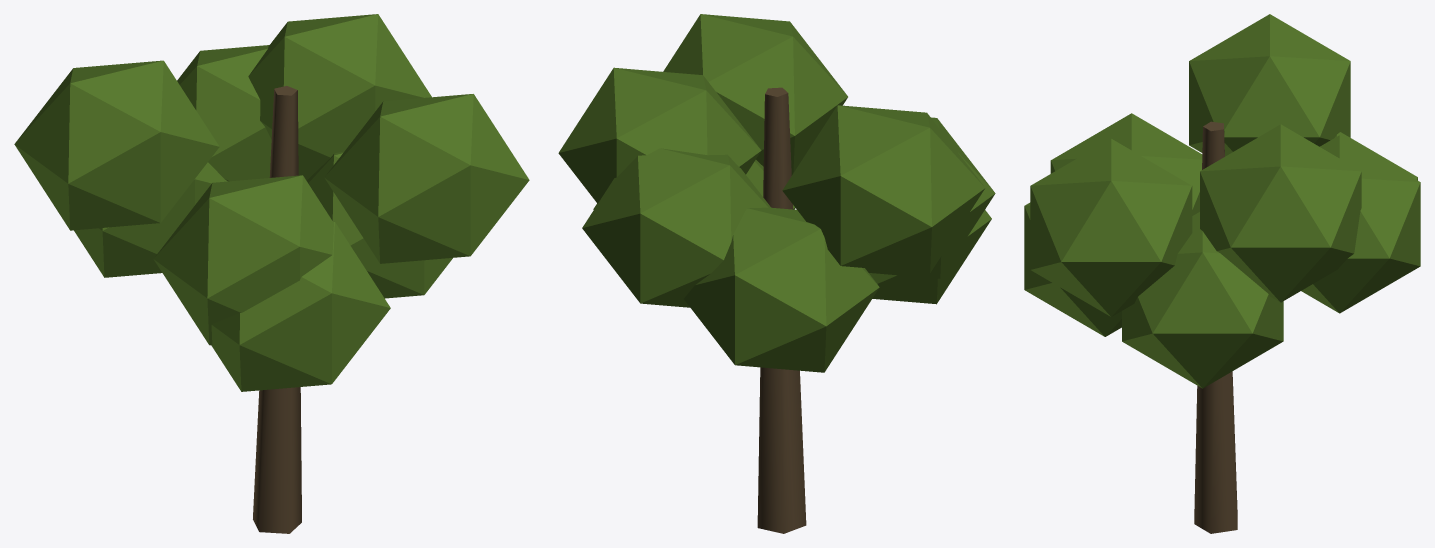
3 renders of one model, left to right at view 1: azimuth 30°, elevation 25°; view 2: azimuth 150°, elevation 25°; view 3: azimuth 270°, elevation 25°, orthographic. The views are drawn at different scales.
Parts seen in each view (by area): view 1: oak-leaf; view 2: oak-leaf; view 3: oak-leaf.
Boxes of the visible parts, x1=… form: oak-leaf: x1=14, y1=14, x2=529, y2=533; oak-leaf: x1=558, y1=14, x2=995, y2=533; oak-leaf: x1=1024, y1=14, x2=1420, y2=533.
Bounding box in the file's own units: 7.05 × 8.26 × 6.9.
